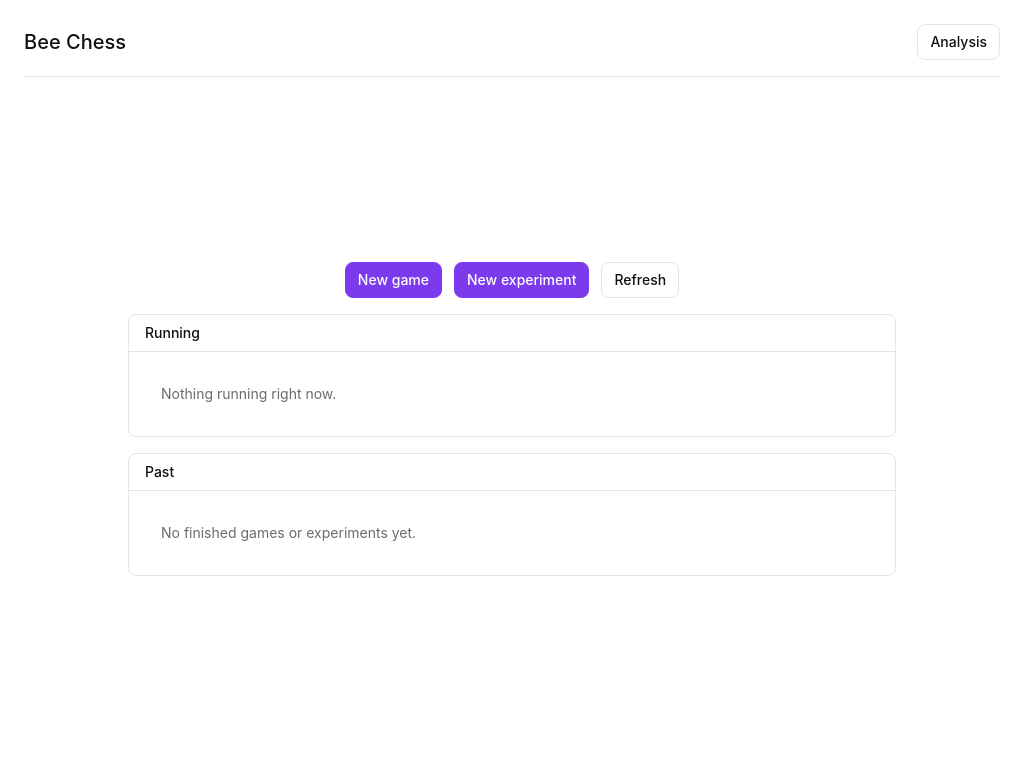
Scenario: App navigation history › app-driven navigation to two different locations in a row each pushes its own entry
Expected: the text "Nothing running right now." is shown, [161,384,336,402]
Click the button "New experiment": (522, 280) [454,262,589,298]
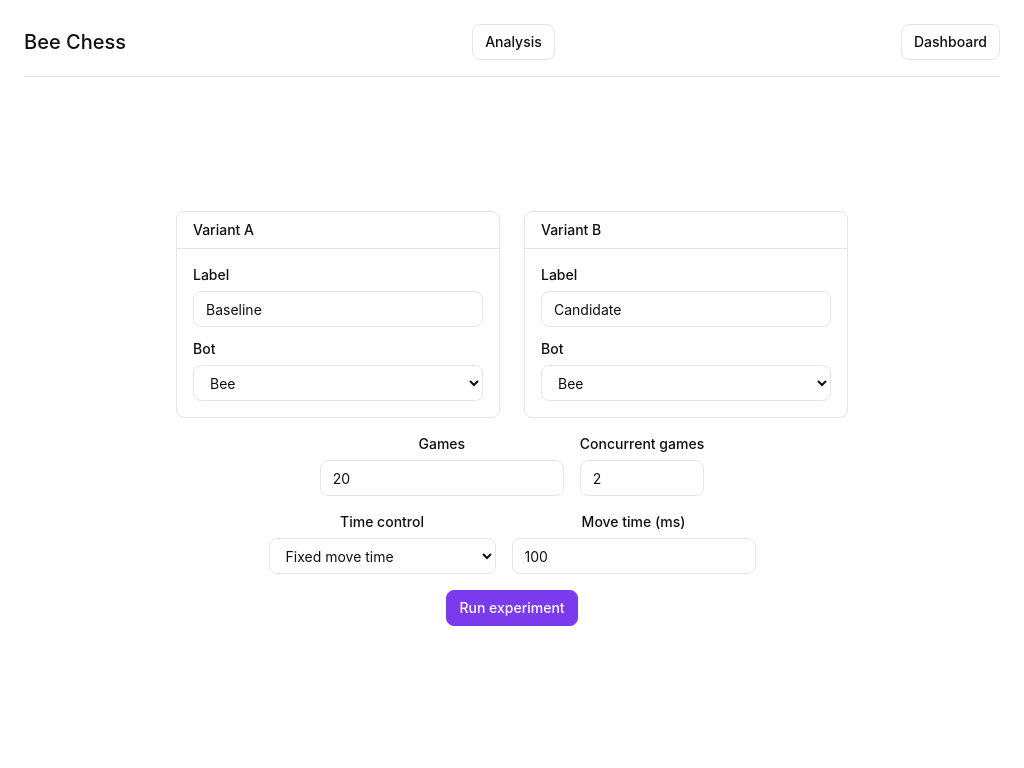
Now the button "Run experiment" is shown, box [446,590,578,626]
Click the button "Dashboard": (950, 42) [901,24,1000,60]
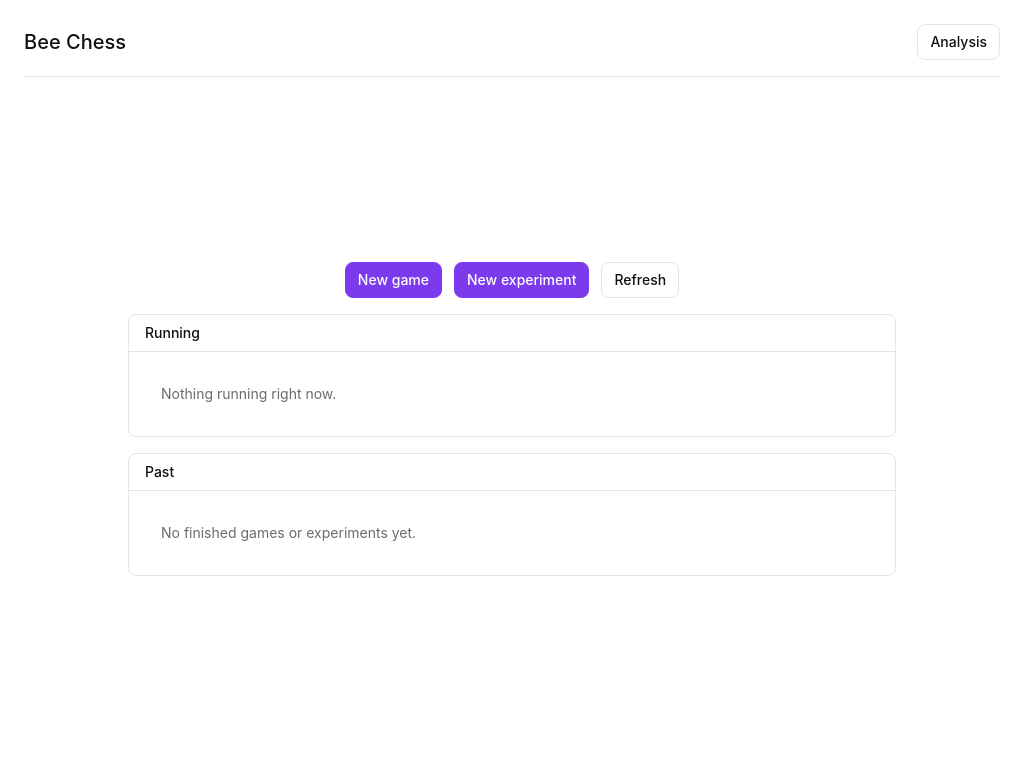
Now the text "Nothing running right now." is shown, box [161,384,336,402]
